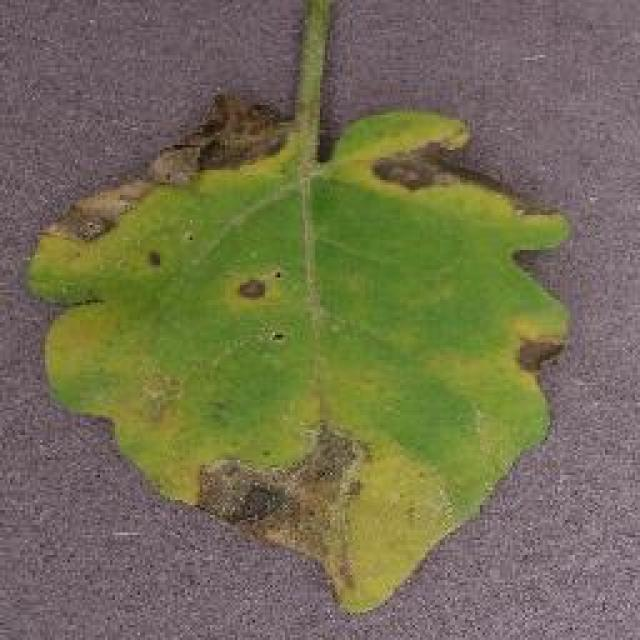Tomato___Septoria_leaf_spot: (30, 0, 565, 610)
